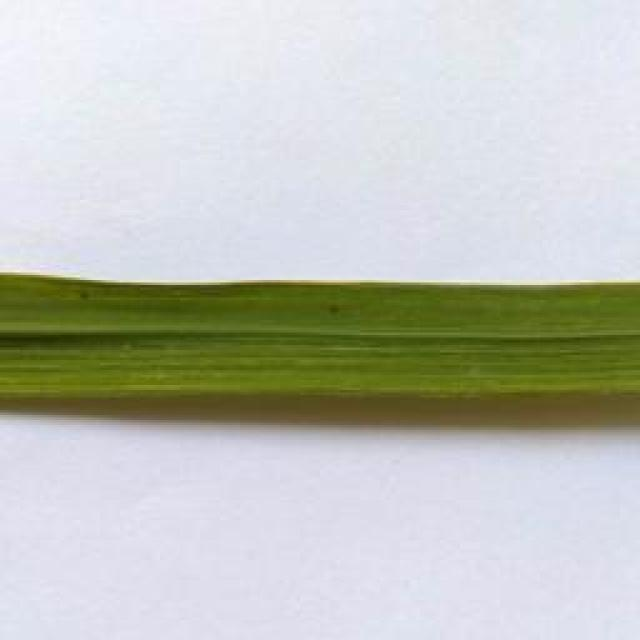Brown_Spot: (324, 299, 346, 319), (77, 287, 90, 307)
